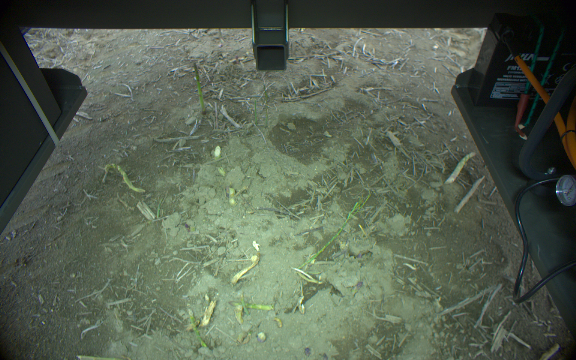aspa: (300, 199, 359, 271), (104, 162, 147, 194), (187, 309, 210, 352), (193, 61, 206, 117), (229, 300, 275, 312)
